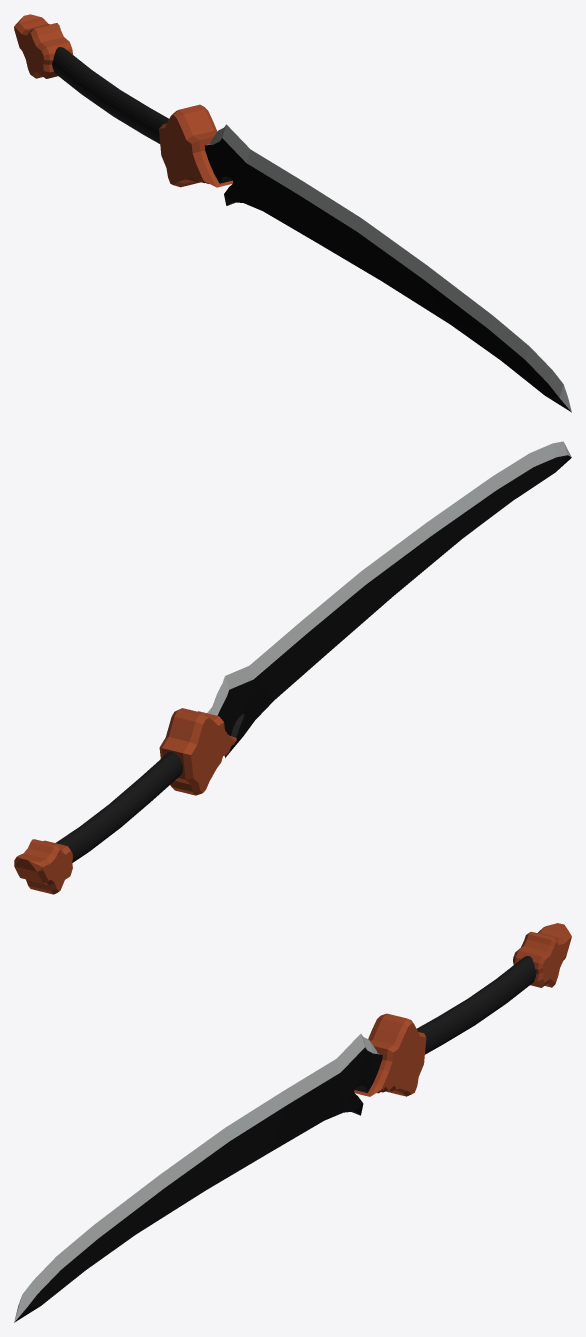
Rendered from 01_s_sword.obj.
3 renders of one model, top to bottom at view 1: azimuth 30°, elevation 25°; view 2: azimuth 150°, elevation 25°; view 3: azimuth 330°, elevation 25°, orthographic.
Visible parts, largest first — view 1: Plane.002_Plane.003; view 2: Plane.002_Plane.003; view 3: Plane.002_Plane.003.
Part boxes in pixels (x1=…): Plane.002_Plane.003: x1=14, y1=14, x2=571, y2=412; Plane.002_Plane.003: x1=14, y1=441, x2=571, y2=894; Plane.002_Plane.003: x1=14, y1=923, x2=571, y2=1322.
Size of the model in its own units: 0.1505 by 0.428 by 4.53.
